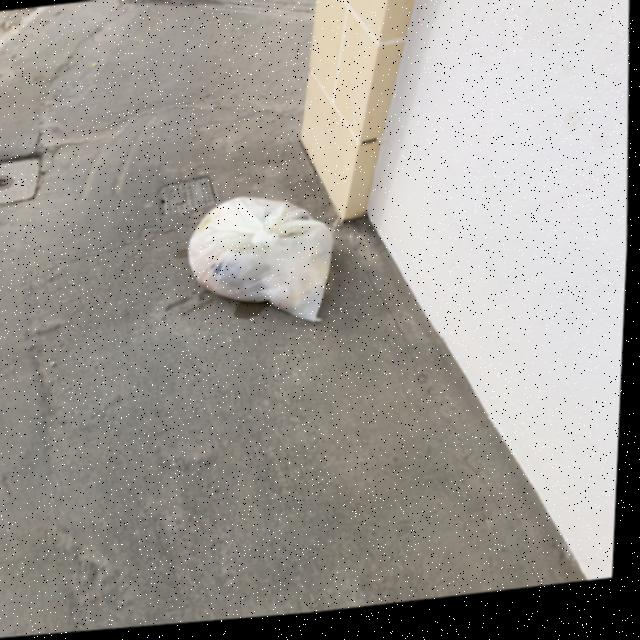Organic Waste -White Bag-: (183, 192, 343, 346)
